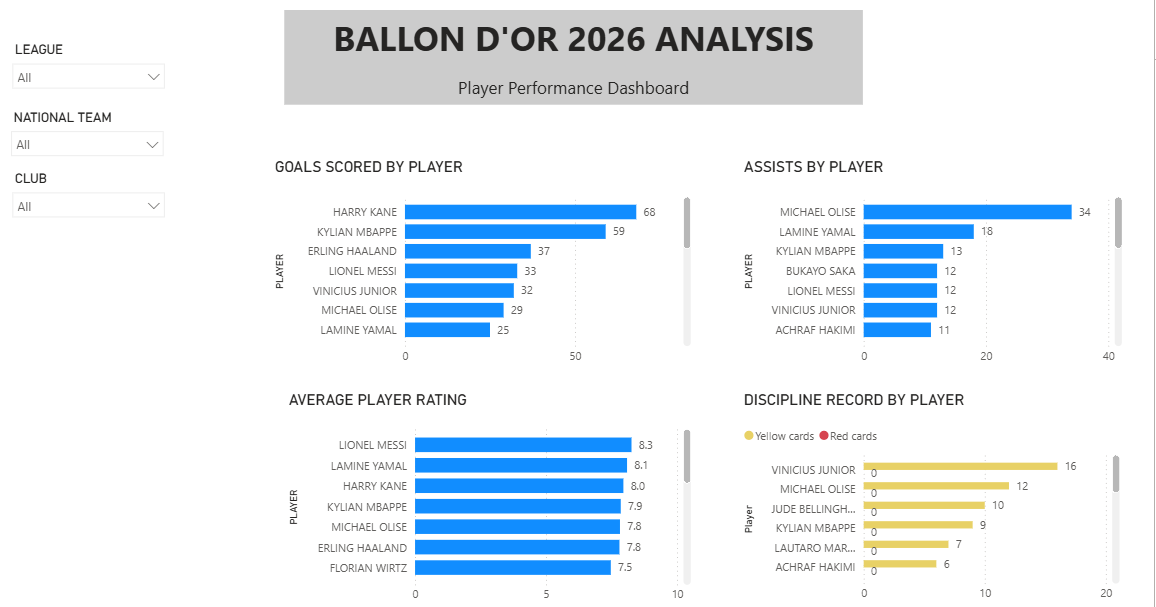

What the dashboard file says about the page in this screenshot:
{"tool":"powerbi","page":{"name":"PLAYER PERFORMANCE OVERVIEW","canvas":[1280,720],"ordinal":0},"visuals":[{"type":"clusteredBarChart","title":" GOALS SCORED BY PLAYER","fields":{"Category":["PLAYERS.PLAYER"],"Y":["Sum(PLAYERS.GOALS)"]},"box":[310.1,222.3,466.6,236],"z":0},{"type":"textbox","box":[325.2,60.4,635.3,104.3],"z":1000},{"type":"clusteredBarChart","title":"ASSISTS BY PLAYER","fields":{"Category":["PLAYERS.PLAYER"],"Y":["Sum(PLAYERS.ASSISTS)"]},"box":[824.7,222.3,425.4,236],"z":2000},{"type":"clusteredBarChart","title":"AVERAGE PLAYER RATING","fields":{"Category":["PLAYERS.PLAYER"],"Y":["Sum(PLAYERS.AVERAGE RATING)"]},"box":[325.2,477.5,451.5,242.9],"z":3000},{"type":"clusteredBarChart","title":"DISCIPLINE RECORD BY PLAYER","fields":{"Category":["DISCIPLINE.Player"],"Y":["Sum(DISCIPLINE.Yellow cards)","Sum(DISCIPLINE.Red cards)"]},"box":[824.7,477.5,422.6,241.5],"z":4000},{"type":"slicer","fields":{"Values":["PLAYERS.LEAGUE"]},"box":[17.1,91.2,188,63.1],"z":5000},{"type":"slicer","fields":{"Values":["PLAYERS.NATIONAL TEAM"]},"box":[15.1,164.7,188,57.6],"z":6000},{"type":"slicer","fields":{"Values":["PLAYERS.CLUB"]},"box":[17.1,232.3,188,63.1],"z":7000}]}

Visuals, with their boxes on the page's 1280x720 design canvas (x1, y1, x2, y2). These are canvas units, not pixel positions in the 1156x607 screenshot, which may show the page scaled, cropped or inside an application window:
" GOALS SCORED BY PLAYER" clusteredBarChart: x1=310, y1=222, x2=777, y2=458
textbox: x1=325, y1=60, x2=960, y2=165
"ASSISTS BY PLAYER" clusteredBarChart: x1=825, y1=222, x2=1250, y2=458
"AVERAGE PLAYER RATING" clusteredBarChart: x1=325, y1=478, x2=777, y2=720
"DISCIPLINE RECORD BY PLAYER" clusteredBarChart: x1=825, y1=478, x2=1247, y2=719
slicer - PLAYERS.LEAGUE: x1=17, y1=91, x2=205, y2=154
slicer - PLAYERS.NATIONAL TEAM: x1=15, y1=165, x2=203, y2=222
slicer - PLAYERS.CLUB: x1=17, y1=232, x2=205, y2=295
